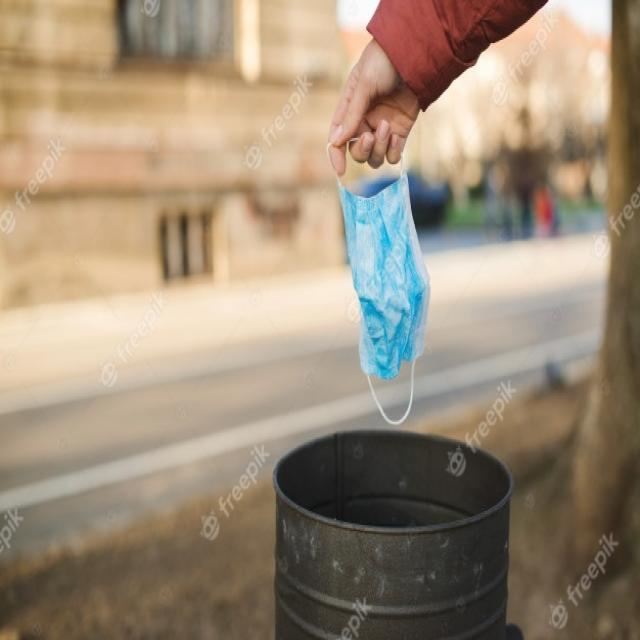face mask: (323, 128, 451, 438)
